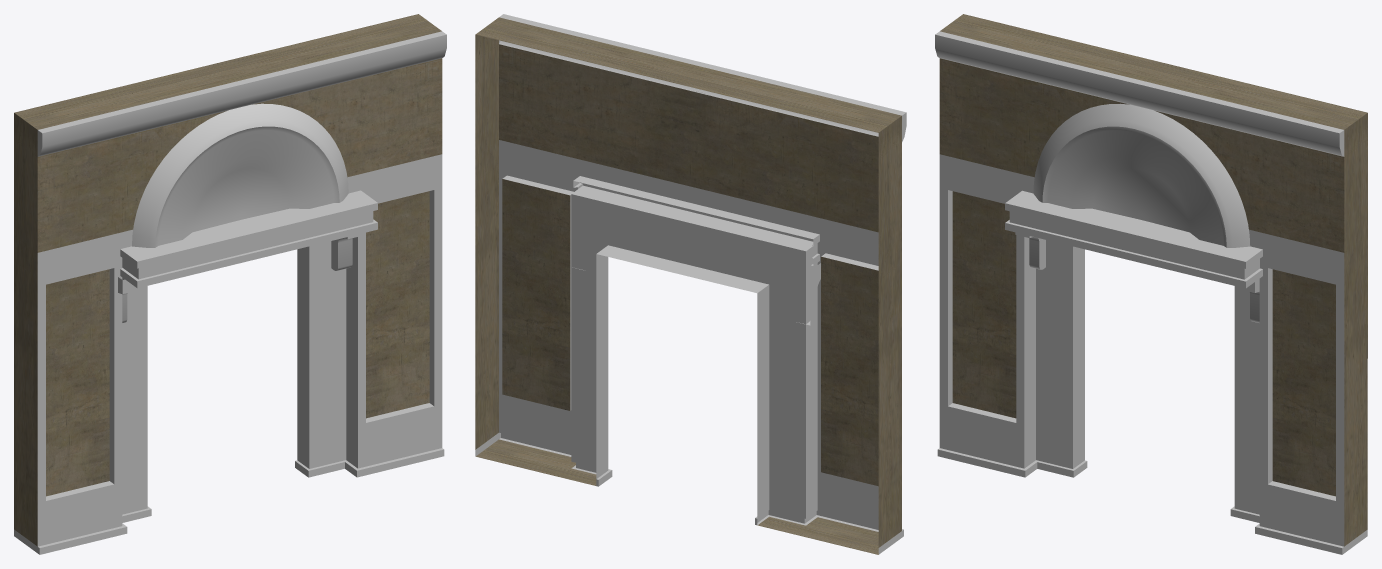
The model's file is Wall_2.FBX.
3 views of the same model, side by side, from view 1: azimuth 30°, elevation 25°; view 2: azimuth 150°, elevation 25°; view 3: azimuth 330°, elevation 25° (orthographic).
Parts seen in each view (by area): view 1: Wall_2; view 2: Wall_2; view 3: Wall_2.
Part boxes in pixels (x1,y1,x2,y2): Wall_2: (14,14,446,554); Wall_2: (475,14,906,554); Wall_2: (935,14,1367,554).
Size of the model in its own units: 10 by 10 by 1.74.
